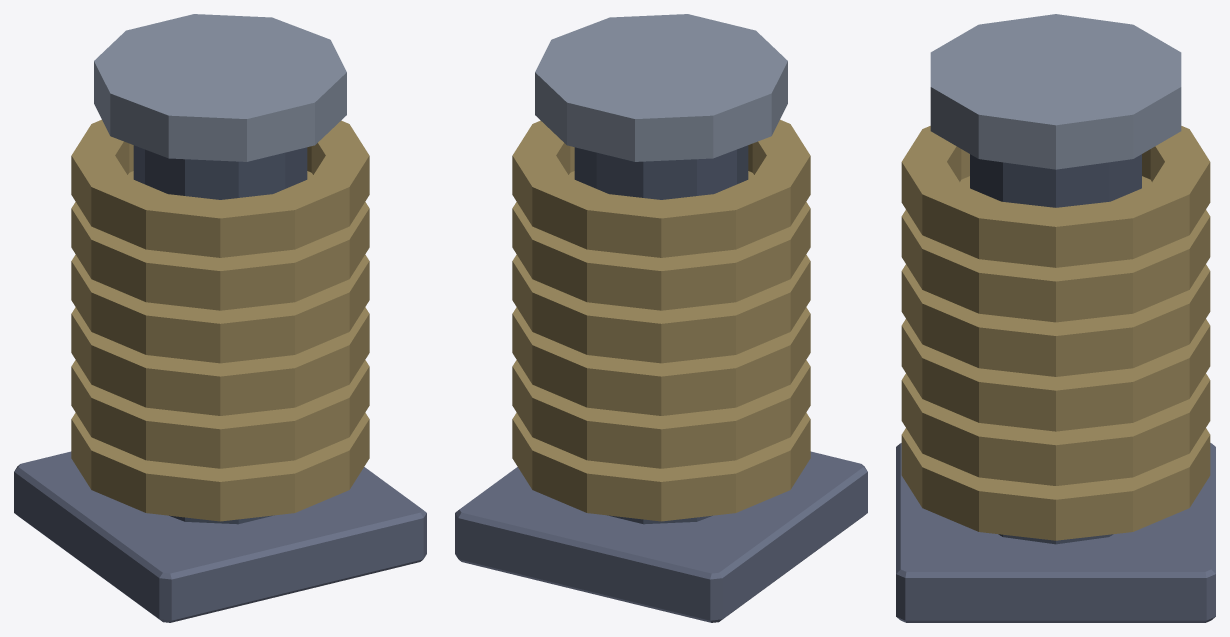
The model's file is capacitor.glb.
The picture shows the model from 3 angles, left to right: view 1: azimuth 30°, elevation 25°; view 2: azimuth 150°, elevation 25°; view 3: azimuth 270°, elevation 25°; orthographic projection. The views are drawn at different scales.
Parts seen in each view (by area): view 1: capacitor__body; view 2: capacitor__body; view 3: capacitor__body.
Boxes of the visible parts, box(x1,y1,x2,y2) form: capacitor__body: box(14, 14, 426, 622); capacitor__body: box(455, 14, 867, 622); capacitor__body: box(896, 14, 1215, 622).
Size of the model in its own units: 0.85 by 1.43 by 0.85.
